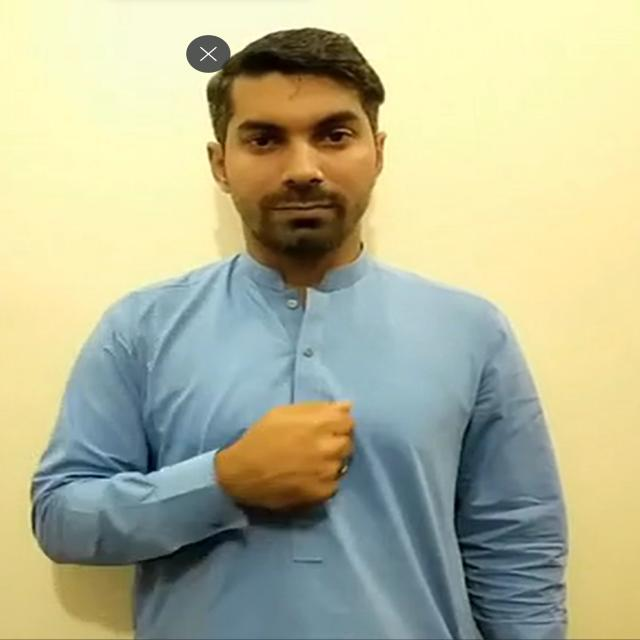sorry: (243, 402, 354, 509)
